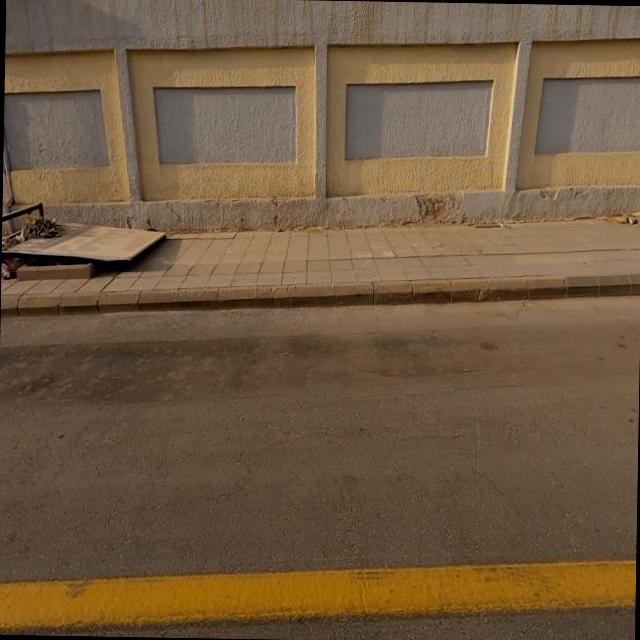debris: (0, 106, 179, 340)
